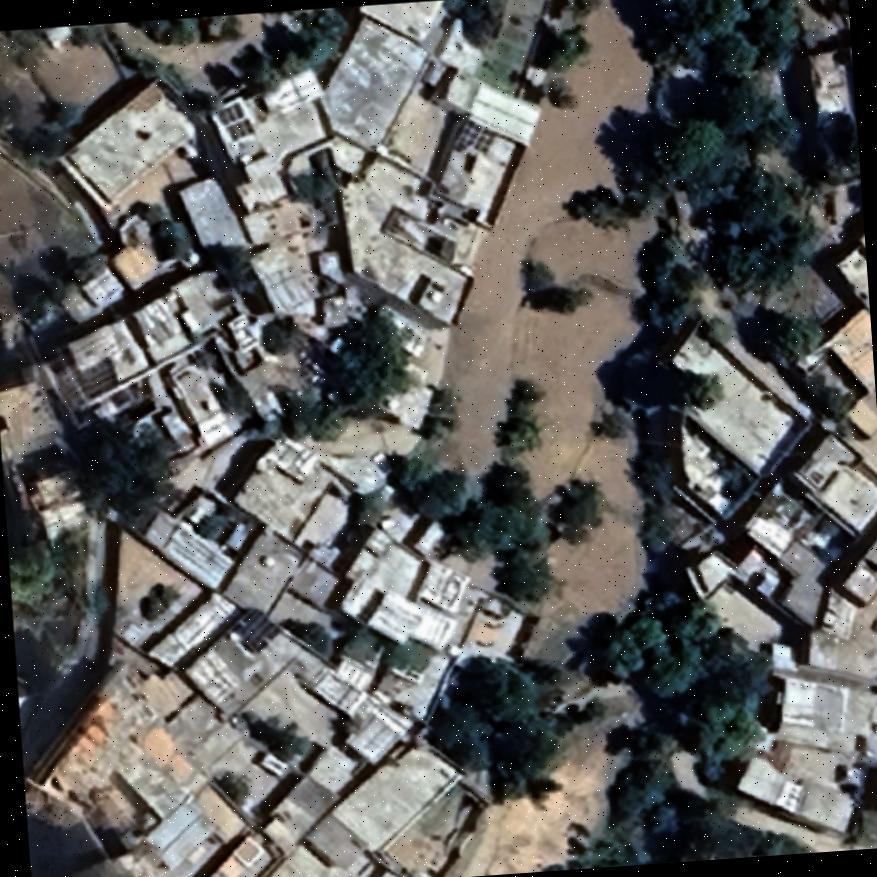Solarpanel: (221, 601, 279, 655), (451, 118, 495, 151), (212, 98, 244, 126), (224, 116, 253, 139)
